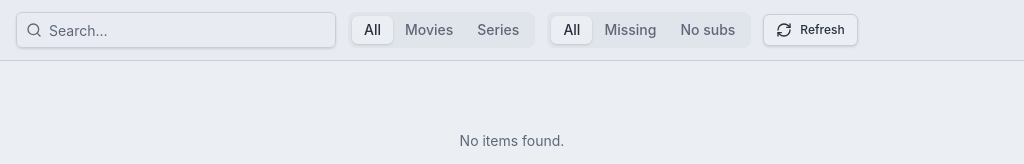
Test: WantedPage - Refresh Wanted List › shows loading state during refresh
Click the button "Refresh" at (810, 30), box top-left (763, 14), bottom-right (858, 46)
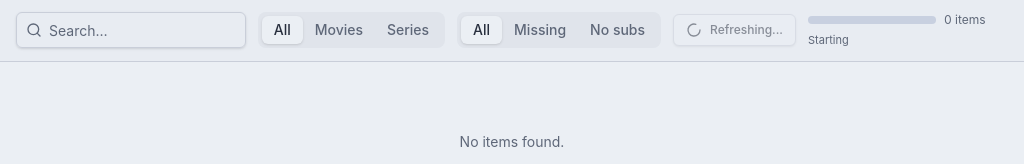
Check: the button "Refreshing..." is shown, box top-left (673, 14), bottom-right (796, 46)
